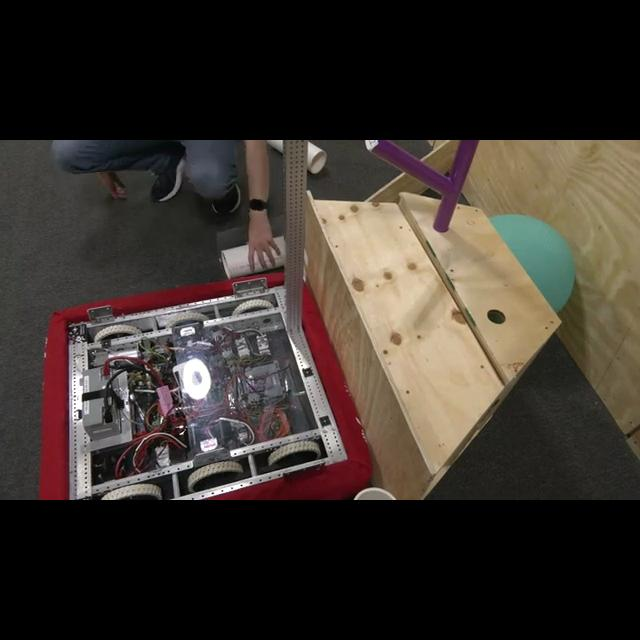CORAL: (220, 237, 290, 277)
